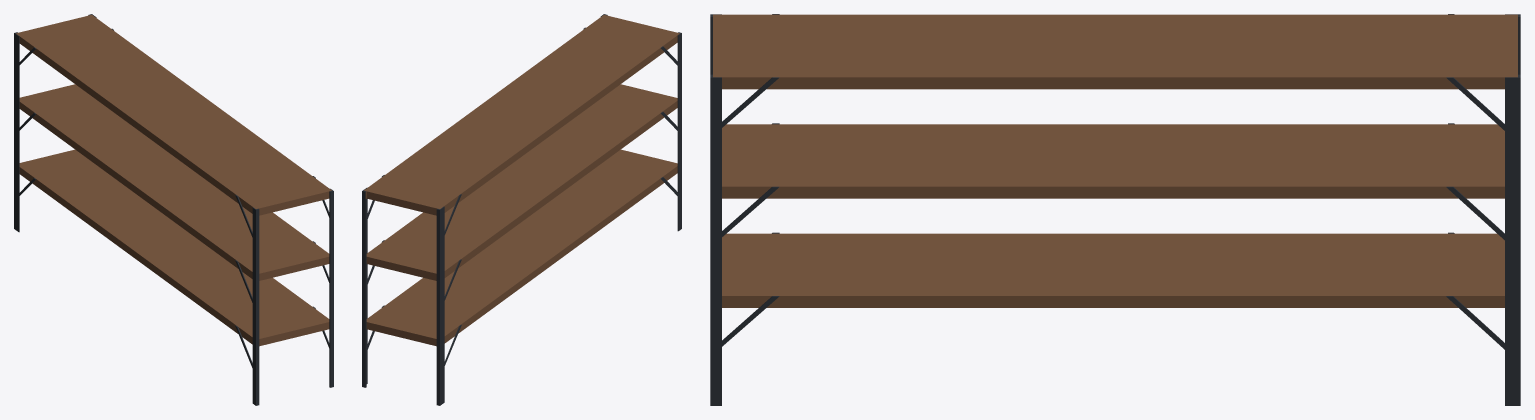
Rendered from shelf.fbx.
The picture shows the model from 3 angles, left to right: view 1: azimuth 30°, elevation 25°; view 2: azimuth 150°, elevation 25°; view 3: azimuth 270°, elevation 25°; orthographic projection. The views are drawn at different scales.
Parts seen in each view (by area): view 1: Cube.002; view 2: Cube.002; view 3: Cube.002.
Boxes of the visible parts, <box> form: Cube.002: <box>14,14,333,405</box>; Cube.002: <box>362,14,681,405</box>; Cube.002: <box>710,14,1520,405</box>.
Size of the model in its own units: 113 by 270 by 604.
